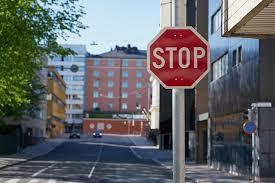Pole: (172, 91, 185, 181)
Sign: (147, 26, 210, 88)
